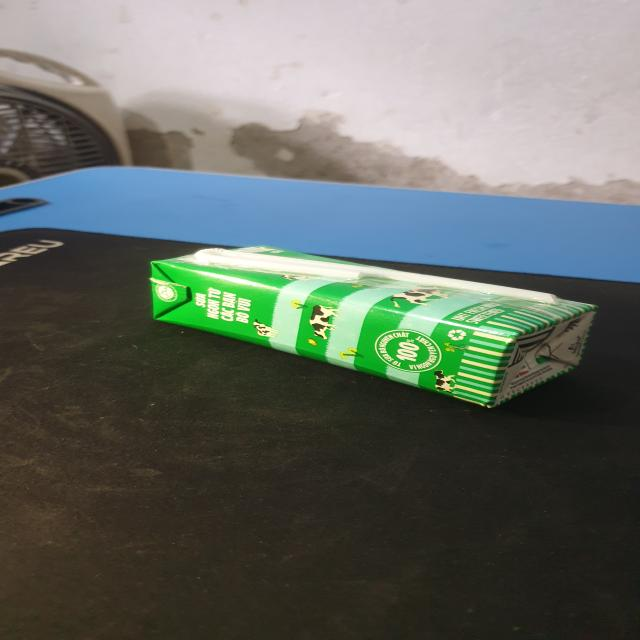Vina: (151, 242, 596, 406)
